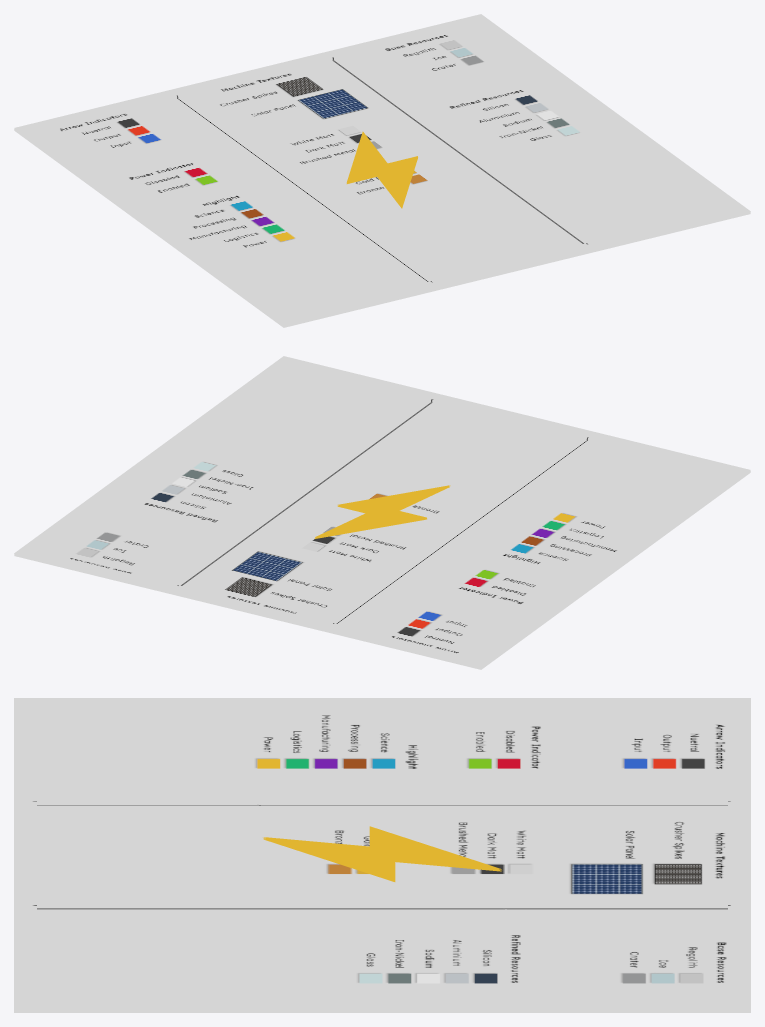
The model's file is TilePowerGizmo.fbx.
The picture shows the model from 3 angles, top to bottom: view 1: azimuth 30°, elevation 25°; view 2: azimuth 150°, elevation 25°; view 3: azimuth 270°, elevation 25°; orthographic projection. The views are drawn at different scales.
Visible parts, largest first — view 1: TilePowerGizmo; view 2: TilePowerGizmo; view 3: TilePowerGizmo.
Boxes of the visible parts, bbox=[...] form: TilePowerGizmo: bbox=[14, 14, 750, 327]; TilePowerGizmo: bbox=[14, 356, 750, 669]; TilePowerGizmo: bbox=[14, 698, 750, 1012].
Size of the model in its own units: 100 by 0.605 by 100.
